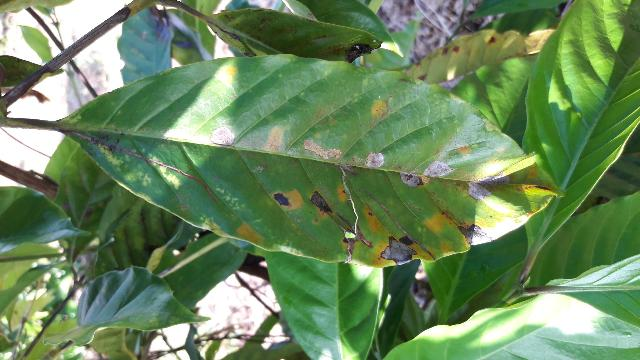rust_level_3: (40, 53, 565, 270)
